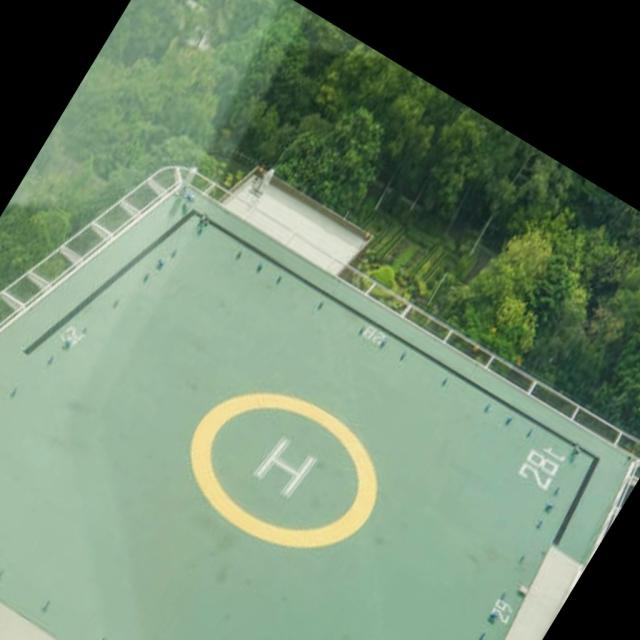helipad: (184, 386, 380, 551)
